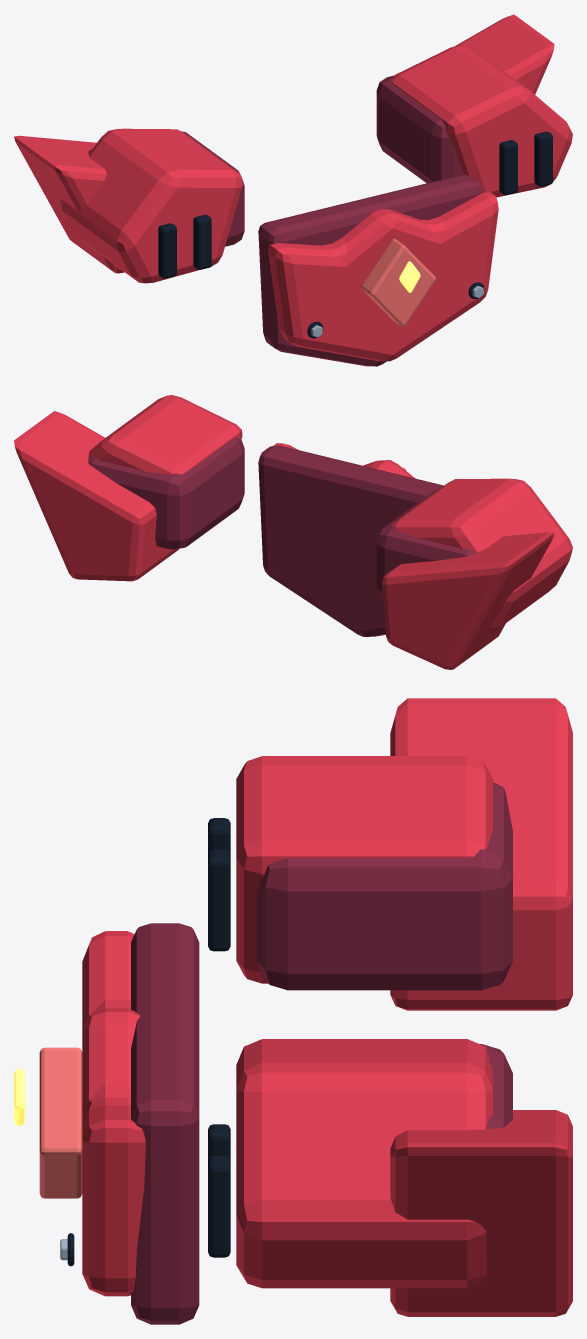
File: vent_shell.glb
3 views of the same model, one above another, from view 1: azimuth 30°, elevation 25°; view 2: azimuth 150°, elevation 25°; view 3: azimuth 270°, elevation 25° (orthographic). The views are drawn at different scales.
Visible parts, largest first — view 1: ModuleArmor; view 2: ModuleArmor; view 3: ModuleArmor.
Boxes of the visible parts, x1,y1,x2,y2 form: ModuleArmor: [14, 14, 572, 366]; ModuleArmor: [14, 395, 572, 669]; ModuleArmor: [14, 698, 572, 1324].
Size of the model in its own units: 1.86 by 0.7619 by 0.98.
